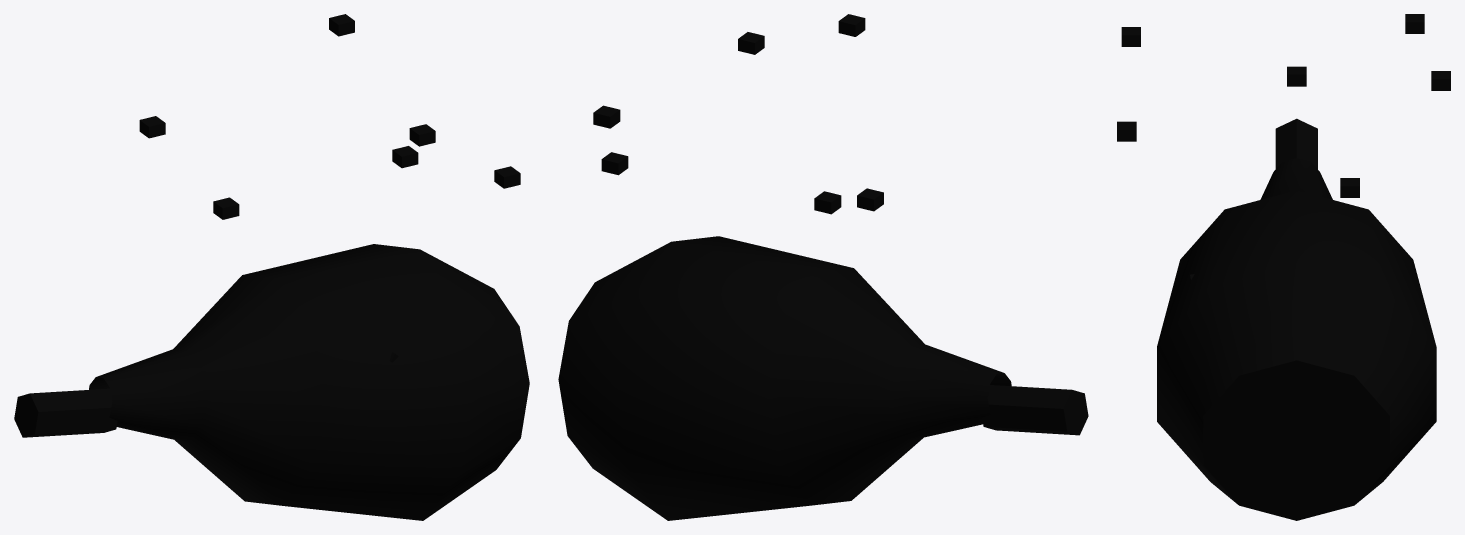
The model's file is SM_ham_rotten.fbx.
3 views of the same model, side by side, from view 1: azimuth 30°, elevation 25°; view 2: azimuth 150°, elevation 25°; view 3: azimuth 270°, elevation 25° (orthographic). The views are drawn at different scales.
Visible parts, largest first — view 1: ham_rotten, ham_rotten_flies; view 2: ham_rotten, ham_rotten_flies; view 3: ham_rotten, ham_rotten_flies.
Part boxes in pixels (x1,y1,x2,y2): ham_rotten: [14, 244, 529, 520]; ham_rotten_flies: [139, 14, 520, 219]; ham_rotten: [558, 236, 1088, 520]; ham_rotten_flies: [593, 14, 883, 214]; ham_rotten: [1157, 118, 1436, 520]; ham_rotten_flies: [1117, 14, 1450, 197].
Size of the model in its own units: 0.3421 by 0.3022 by 0.2043.
